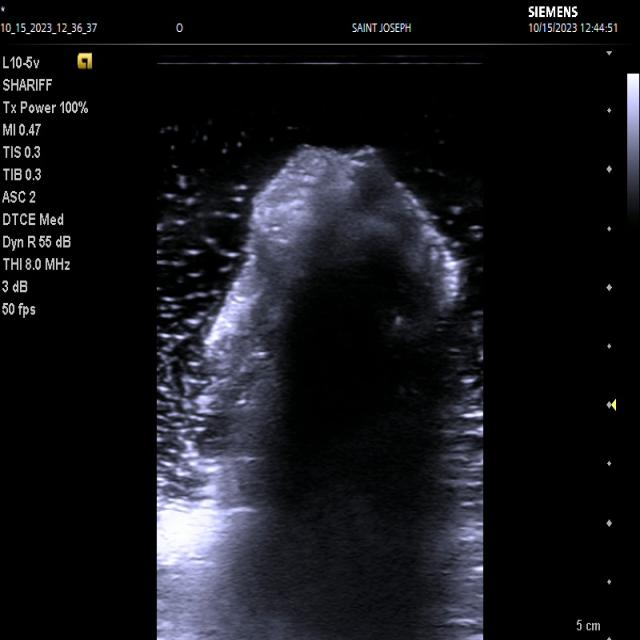tissue: (158, 149, 446, 640)
